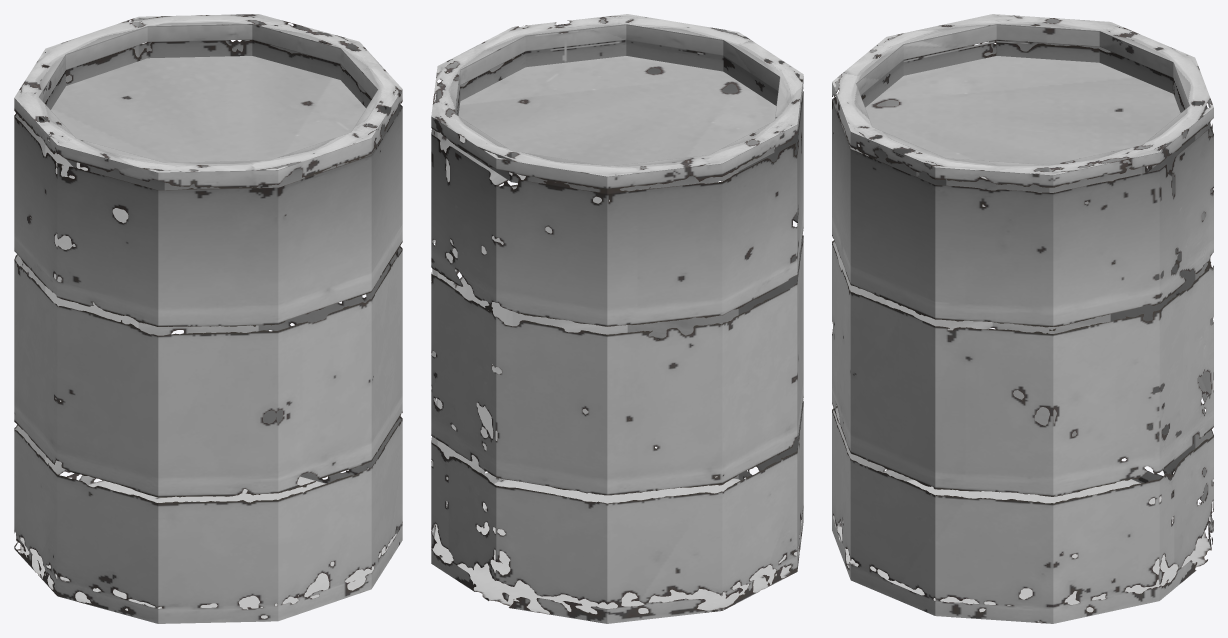
Rendered from SM_TripoBarrel.fbx.
3 views of the same model, side by side, from view 1: azimuth 30°, elevation 25°; view 2: azimuth 150°, elevation 25°; view 3: azimuth 270°, elevation 25° (orthographic).
Visible parts, largest first — view 1: SM_TripoBarrel; view 2: SM_TripoBarrel; view 3: SM_TripoBarrel.
Part boxes in pixels (x1,y1,x2,y2): SM_TripoBarrel: (14,14,402,623); SM_TripoBarrel: (431,14,803,623); SM_TripoBarrel: (832,14,1213,623).
Size of the model in its own units: 65.58 by 85 by 65.58.
Materials: 1 (1 with a texture image).
